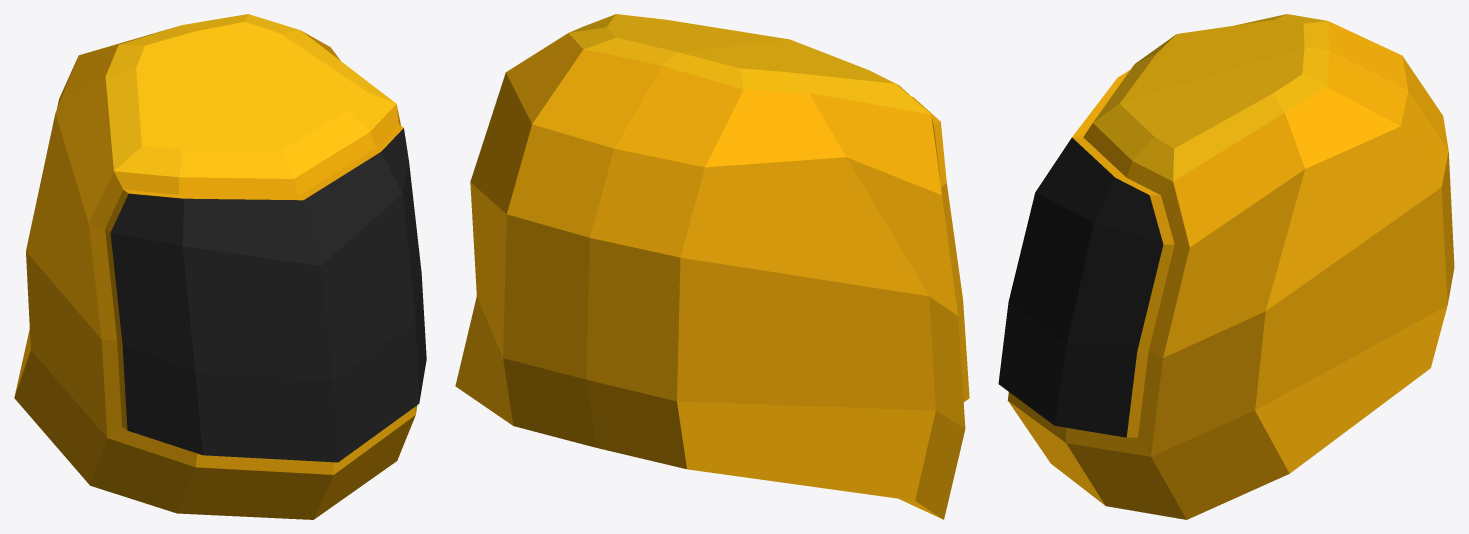
The model's file is Space Helmet .fbx.
The picture shows the model from 3 angles, left to right: view 1: azimuth 30°, elevation 25°; view 2: azimuth 150°, elevation 25°; view 3: azimuth 270°, elevation 25°; orthographic projection. The views are drawn at different scales.
Visible parts, largest first — view 1: casual_Male_G.001; view 2: casual_Male_G.001; view 3: casual_Male_G.001.
Boxes of the visible parts, bbox=[...] form: casual_Male_G.001: bbox=[14, 14, 426, 519]; casual_Male_G.001: bbox=[455, 14, 969, 519]; casual_Male_G.001: bbox=[998, 14, 1454, 519].
Size of the model in its own units: 0.2326 by 0.2398 by 0.2377.
